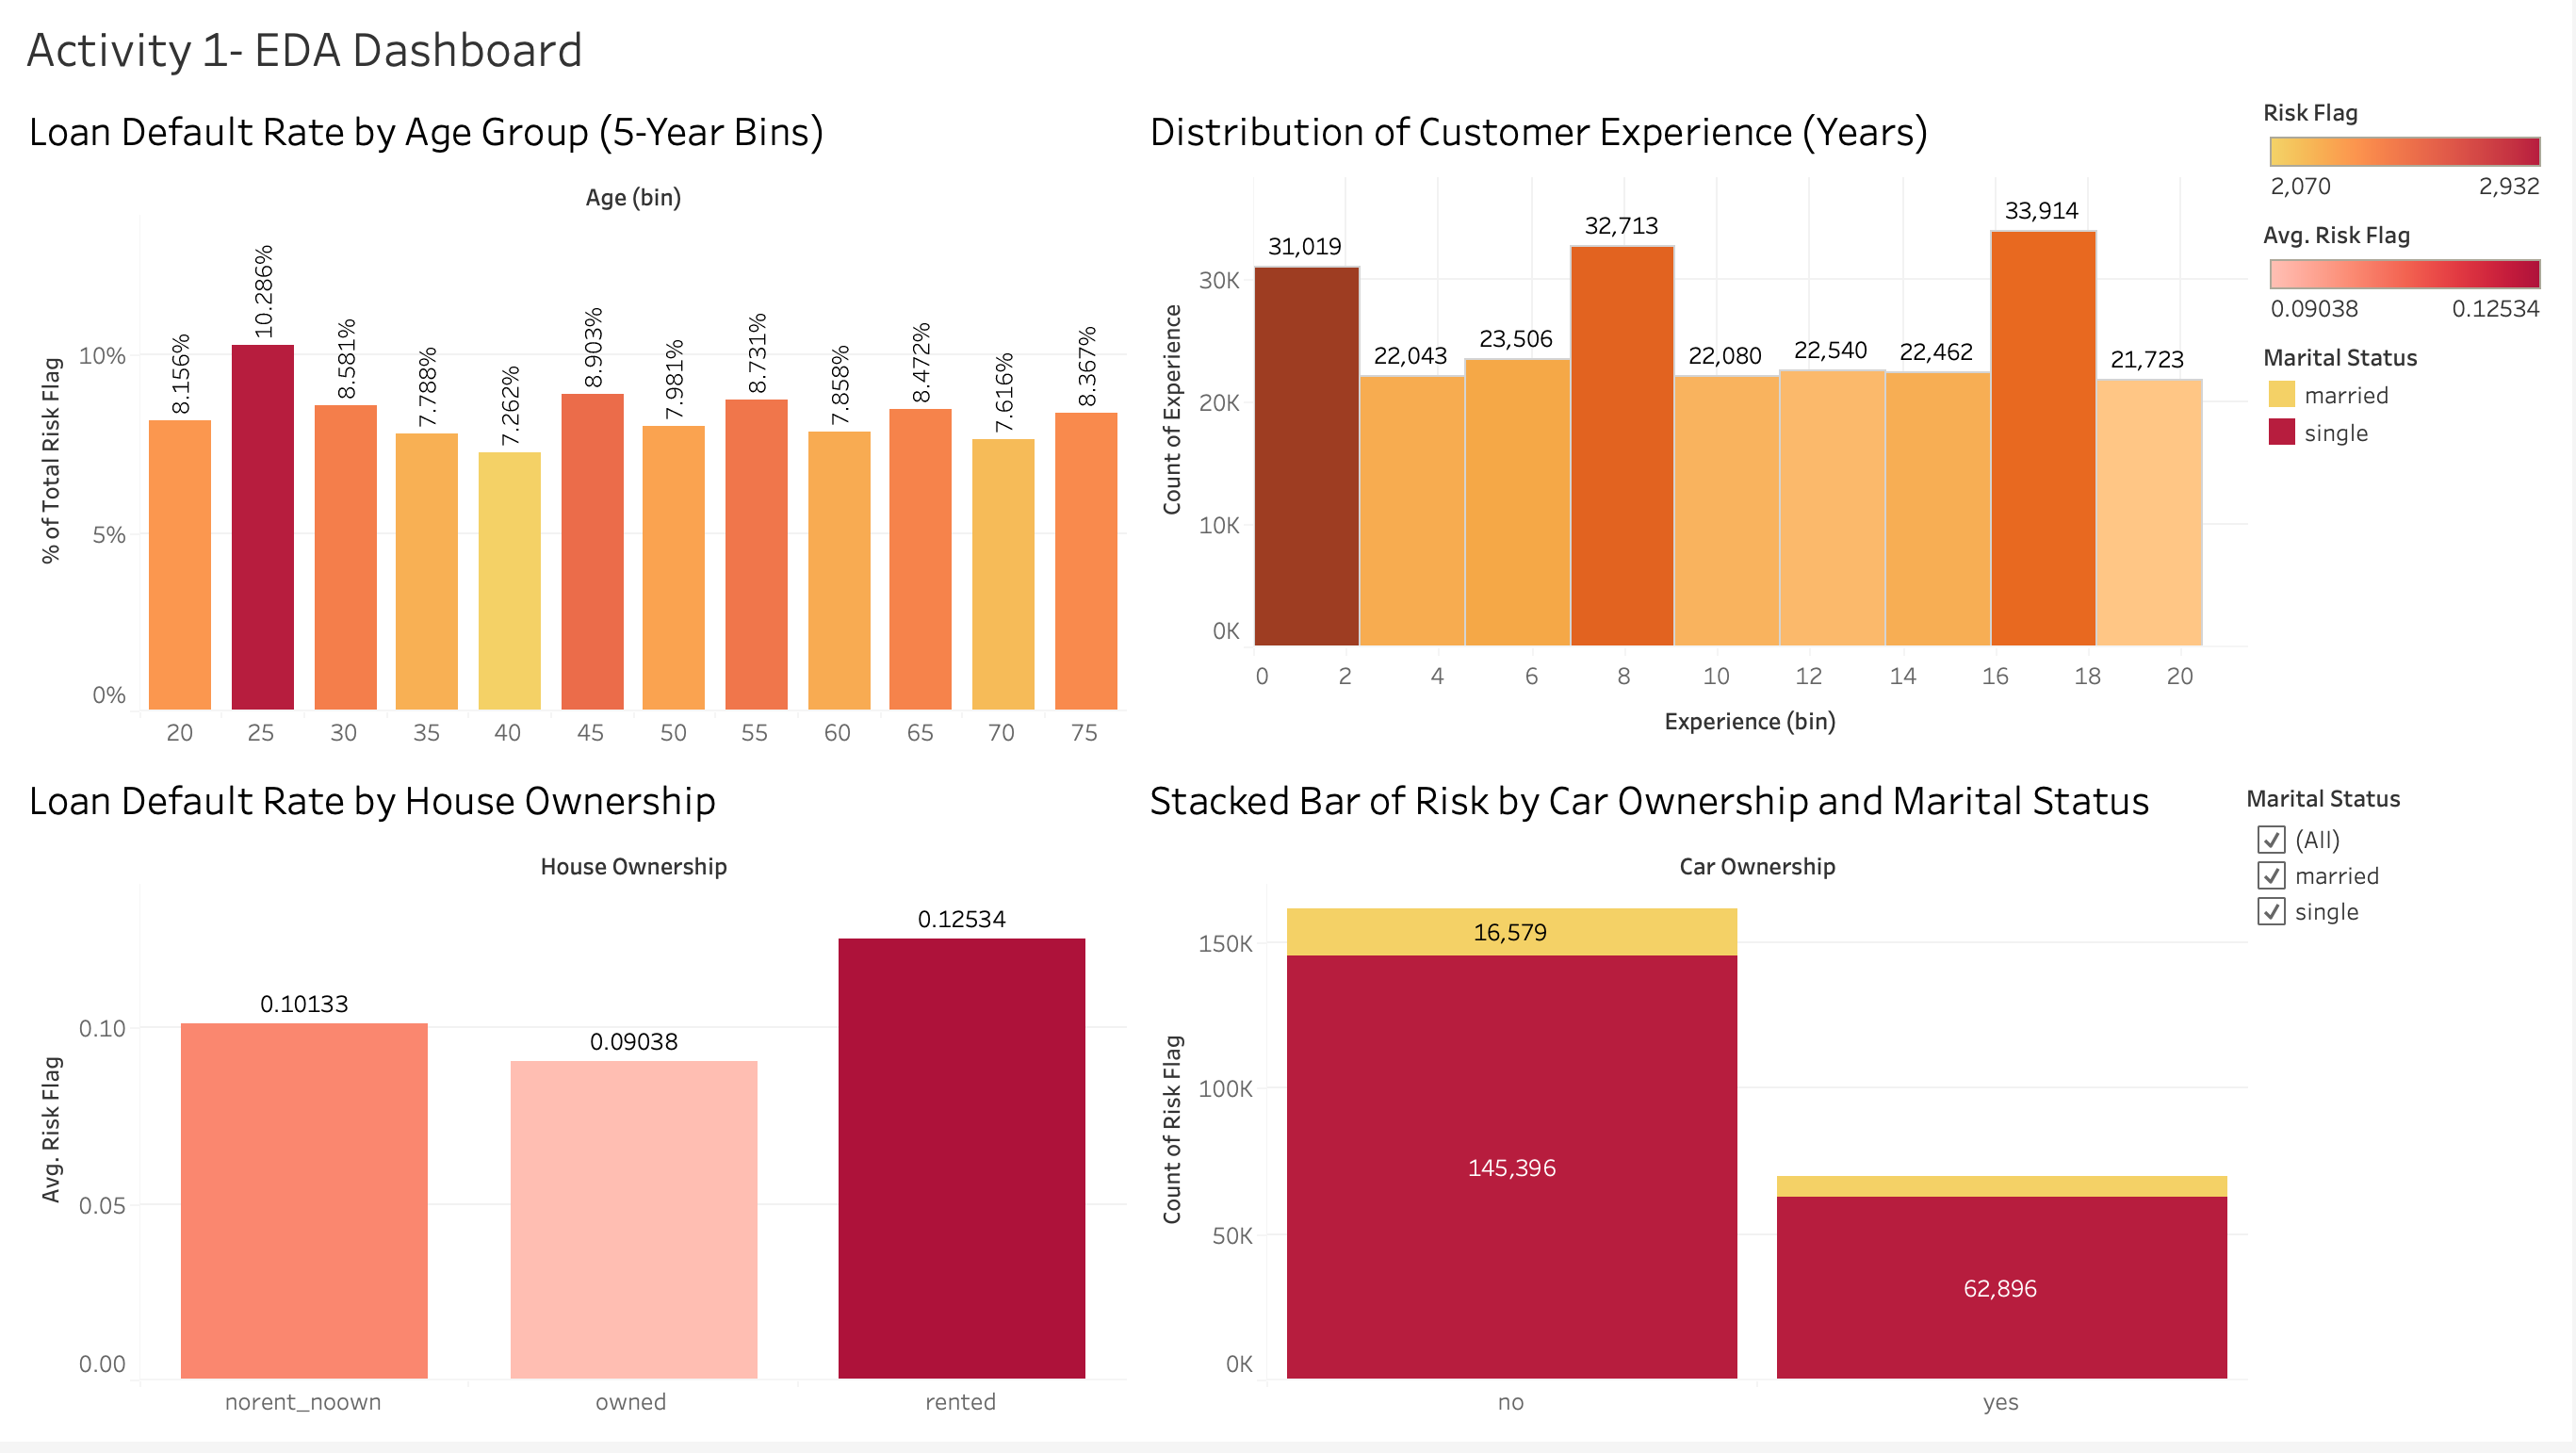

The page's visual inventory and layout, read from the dashboard file:
{"tool":"tableau","page":{"name":"Dashboard 1","canvas":[1366,768],"ordinal":0},"visuals":[{"type":"title","box":[8,8,1350,42]},{"type":"worksheet","title":"Loan Default Rate by Age Group (5-Year Bins)","mark":"Automatic","rows":["Risk_Flag"],"cols":["Age (bin)"],"box":[8,50,595,355]},{"type":"worksheet","title":"Distribution of Customer Experience (Years)","mark":"Automatic","rows":["Experience"],"cols":["Experience (bin)"],"box":[603,50,595,355]},{"type":"legend","title":"Loan Default Rate by Age Group (5-Year Bins)","param":"[federated.1i3njhy07nzkwk18lely21n53iaq].[sum:Risk_Flag:qk]","box":[1198,50,160,65]},{"type":"legend","title":"Loan Default Rate by House Ownership","param":"[federated.1i3njhy07nzkwk18lely21n53iaq].[avg:Risk_Flag:qk]","box":[1198,115,160,65]},{"type":"legend","title":"Stacked Bar of Risk by Car Ownership and Marital Status","param":"[federated.1i3njhy07nzkwk18lely21n53iaq].[none:Marital_Status:nk]","box":[1198,180,160,66]},{"type":"worksheet","title":"Loan Default Rate by House Ownership","mark":"Automatic","rows":["Risk_Flag"],"cols":["House_Ownership"],"box":[8,405,595,355]},{"type":"worksheet","title":"Stacked Bar of Risk by Car Ownership and Marital Status","mark":"Automatic","rows":["Risk_Flag"],"cols":["Car_Ownership"],"box":[603,405,595,355]},{"type":"filter","title":"Stacked Bar of Risk by Car Ownership and Marital Status","param":"[federated.1i3njhy07nzkwk18lely21n53iaq].[none:Marital_Status:nk]","box":[1193,418,168,89]}]}

Visuals, with their boxes in screenshot pixels (x1, y1, x2, y2), scaled from the page's 1366x768 canvas onto the 2576x1453 screenshot:
title: 15, 15, 2561, 94
"Loan Default Rate by Age Group (5-Year Bins)" worksheet: 15, 94, 1137, 766
"Distribution of Customer Experience (Years)" worksheet: 1137, 94, 2259, 766
"Loan Default Rate by Age Group (5-Year Bins)" legend: 2259, 94, 2561, 218
"Loan Default Rate by House Ownership" legend: 2259, 218, 2561, 340
"Stacked Bar of Risk by Car Ownership and Marital Status" legend: 2259, 340, 2561, 465
"Loan Default Rate by House Ownership" worksheet: 15, 766, 1137, 1438
"Stacked Bar of Risk by Car Ownership and Marital Status" worksheet: 1137, 766, 2259, 1438
"Stacked Bar of Risk by Car Ownership and Marital Status" filter: 2250, 791, 2567, 959
